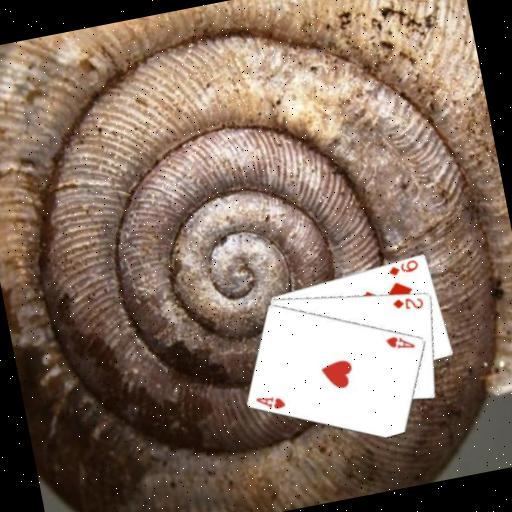2D: (389, 291, 426, 315)
9D: (385, 257, 421, 279)
AH: (382, 329, 418, 355), (252, 390, 288, 415)
